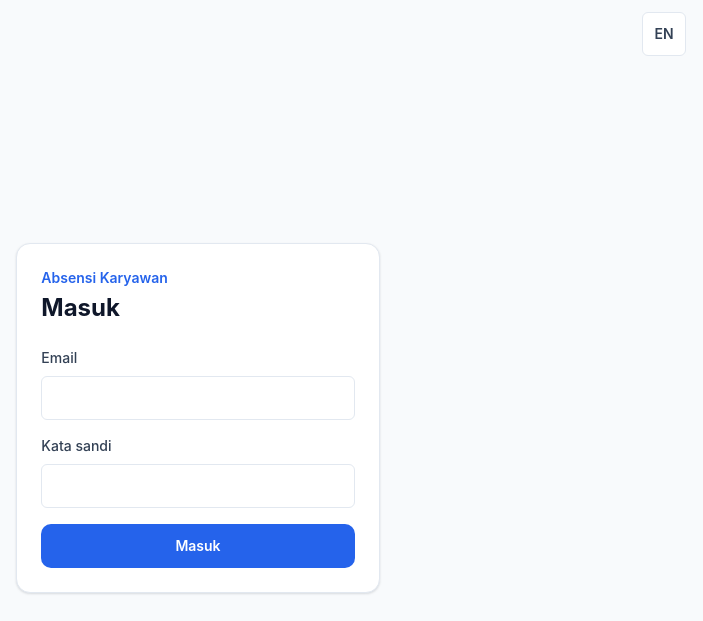
it: LoginPage › shows the lockout message on a 423 answer
Step 1. Type "worker@corp.test" into the field labelled "Email" → point(198, 398), box x1=41 y1=376 x2=355 y2=420
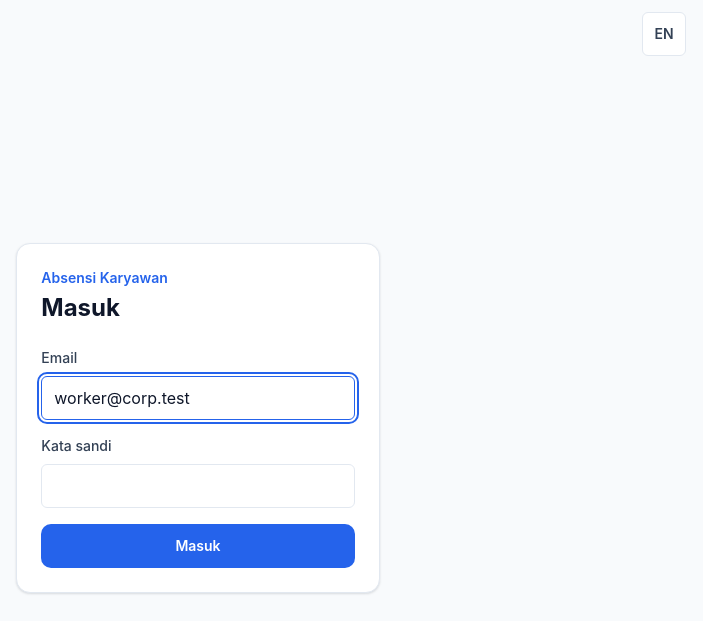
Step 2. Type "secret-1" into the password field labelled "Kata sandi" → point(198, 486), box x1=41 y1=464 x2=355 y2=508
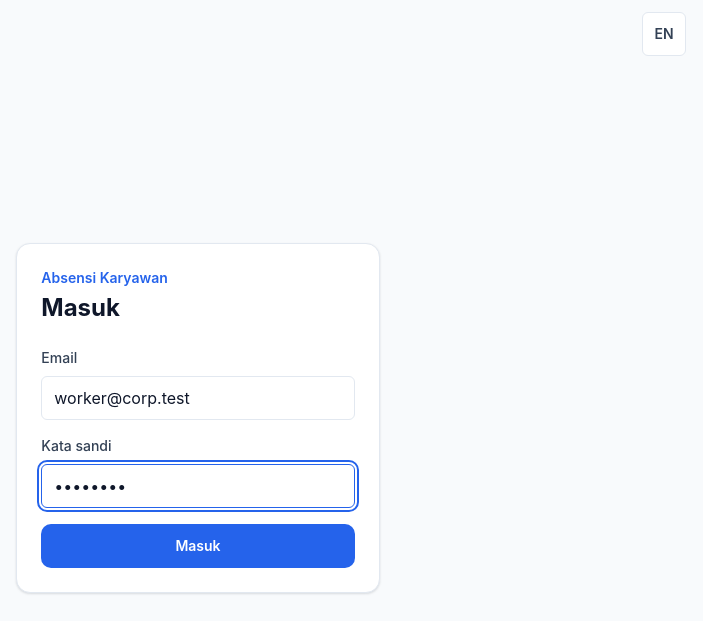
Step 3. Click the button "Masuk" → point(198, 546), box x1=41 y1=524 x2=355 y2=568
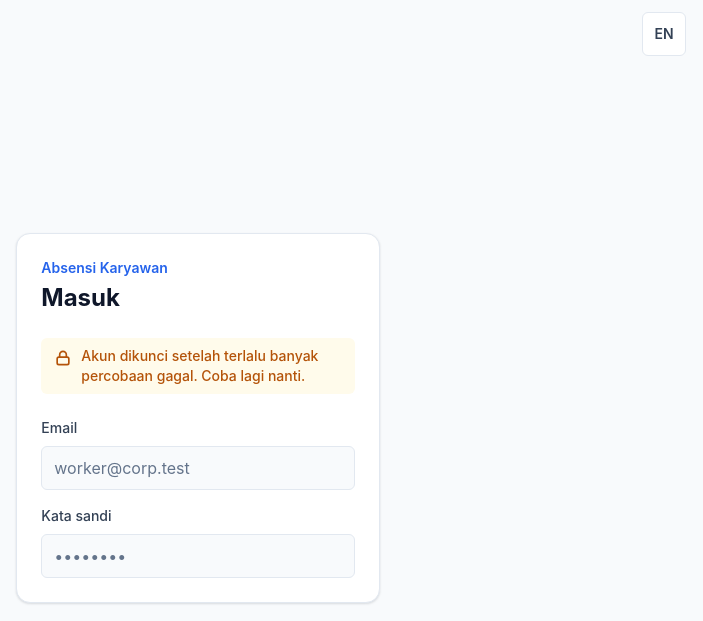
Now the message with test id "login-error" reads "Akun dikunci setelah terlalu banyak percobaan gagal. Coba lagi nanti.", box x1=81 y1=347 x2=318 y2=384
